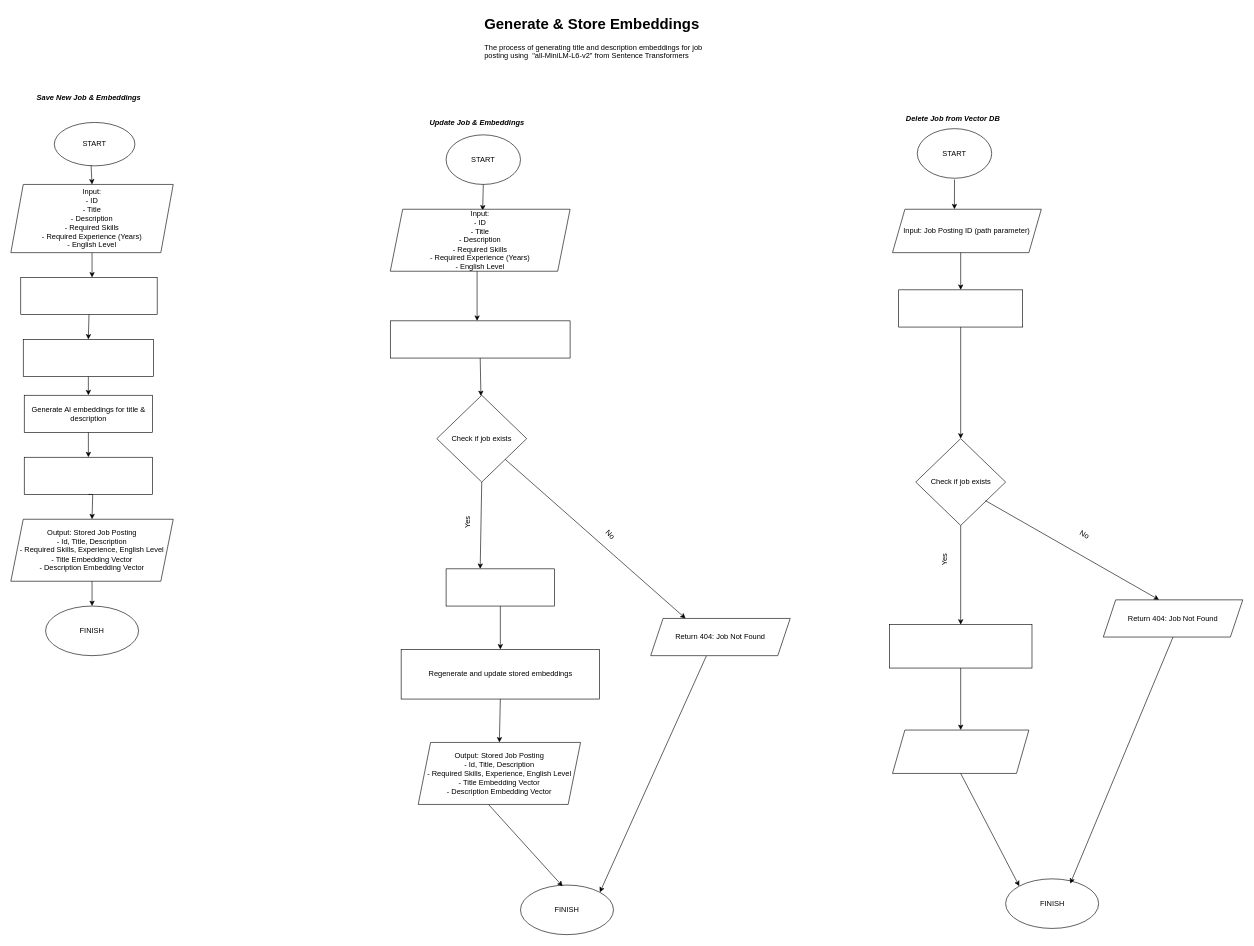
The diagram is 1254 pixels wide and 946 high, and some of its shapes have lost their labels. The box of each missing label's shape, as (x1, y1, x2, y2) in pixels:
Clean and prepare job data: (23, 339, 153, 377)
Clean and update job data: (445, 568, 555, 606)
Delete job from vector storage: (889, 624, 1032, 668)
Output: Success message: (892, 729, 1029, 773)
Receive delete request for job: (898, 289, 1023, 327)
Receive job update request: (390, 320, 570, 358)
Receive new job posting: (20, 277, 157, 315)
Store job data and its vector representations: (24, 457, 153, 494)
